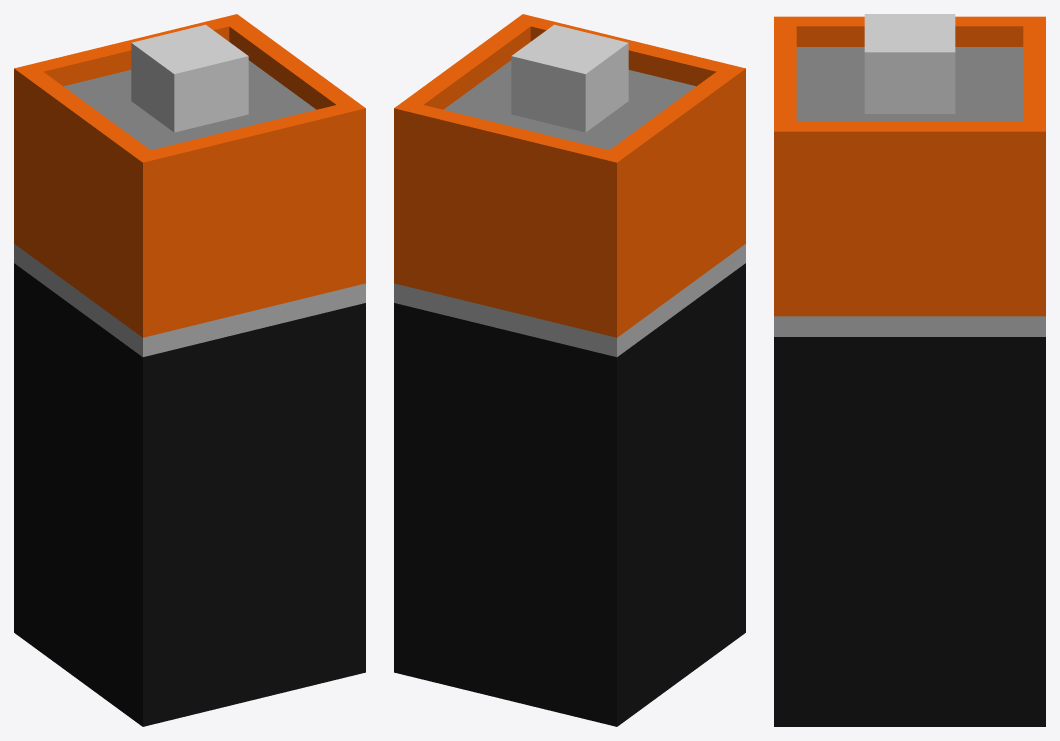
The model's file is Battery.fbx.
3 renders of one model, left to right at view 1: azimuth 30°, elevation 25°; view 2: azimuth 150°, elevation 25°; view 3: azimuth 270°, elevation 25°, orthographic. The views are drawn at different scales.
Parts seen in each view (by area): view 1: Battery:Mesh; view 2: Battery:Mesh; view 3: Battery:Mesh.
Part boxes in pixels (bbox=[...]): Battery:Mesh: bbox=[14, 14, 365, 726]; Battery:Mesh: bbox=[394, 14, 745, 726]; Battery:Mesh: bbox=[774, 14, 1045, 726].
Bounding box in the file's own units: 12 × 31 × 12.
